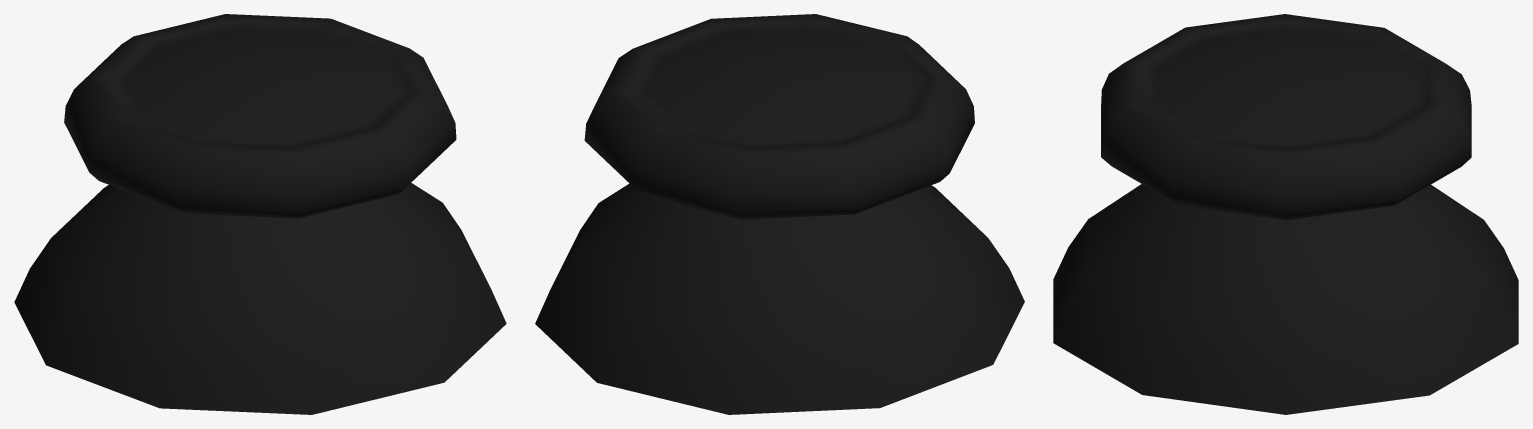
The model's file is crystal_controller_left_button3.obj.
The picture shows the model from 3 angles, left to right: view 1: azimuth 30°, elevation 25°; view 2: azimuth 150°, elevation 25°; view 3: azimuth 270°, elevation 25°; orthographic projection.
Visible parts, largest first — view 1: crystal_controller_left_button3; view 2: crystal_controller_left_button3; view 3: crystal_controller_left_button3.
Part boxes in pixels (x1=…): crystal_controller_left_button3: x1=14, y1=14, x2=506, y2=414; crystal_controller_left_button3: x1=535, y1=14, x2=1024, y2=414; crystal_controller_left_button3: x1=1053, y1=14, x2=1518, y2=414.
Size of the model in its own units: 0.019 by 0.0106 by 0.0181.
1 material, 1 textured.
